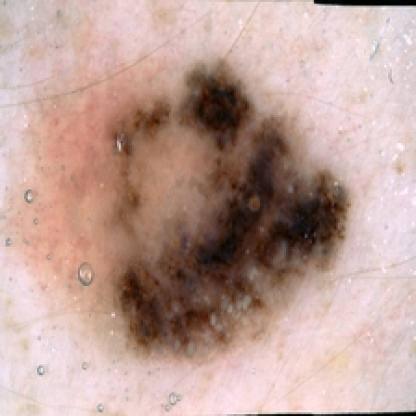Skin_Cancer-Malignant: (108, 59, 351, 363)
